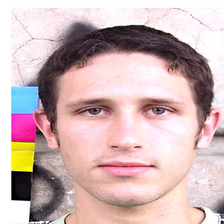no_mask: (60, 72, 196, 200)
